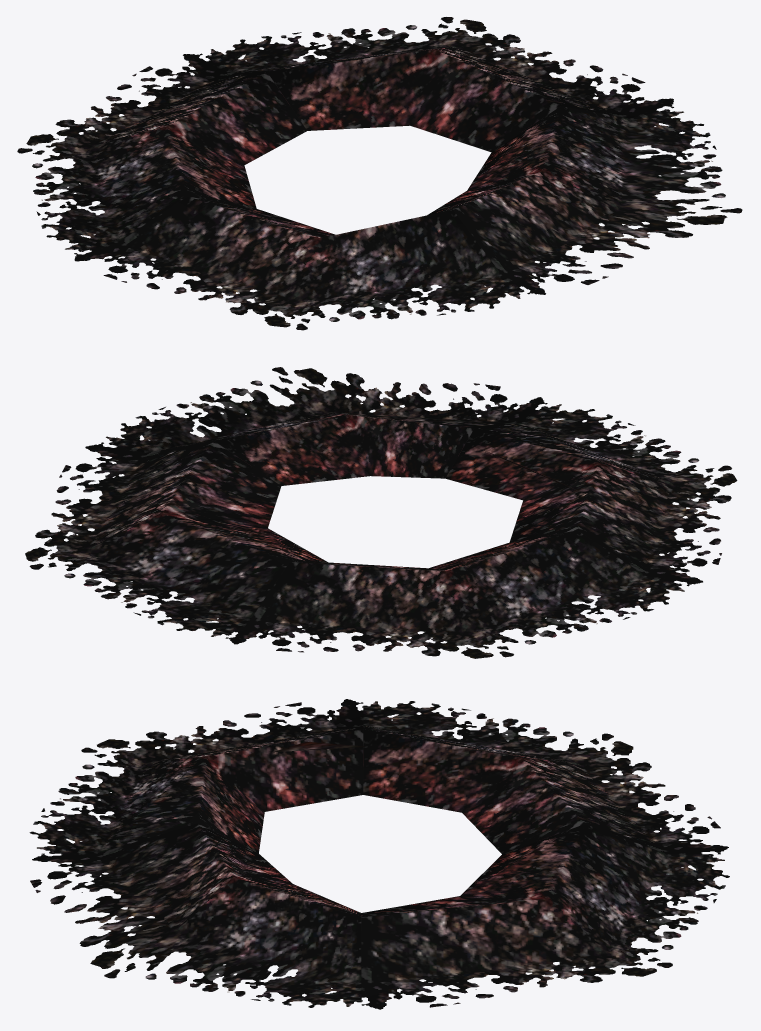
File: CmpFire1.glb
3 views of the same model, one above another, from view 1: azimuth 30°, elevation 25°; view 2: azimuth 150°, elevation 25°; view 3: azimuth 270°, elevation 25° (orthographic). The views are drawn at different scales.
Parts seen in each view (by area): view 1: _CmpFire1; view 2: _CmpFire1; view 3: _CmpFire1.
Part boxes in pixels (<box>): _CmpFire1: <box>17,17,742,330</box>; _CmpFire1: <box>25,367,737,658</box>; _CmpFire1: <box>29,699,729,1009</box>.
Bounding box in the file's own units: 3.9 × 0.3333 × 3.72.
2 materials, 2 textured.
